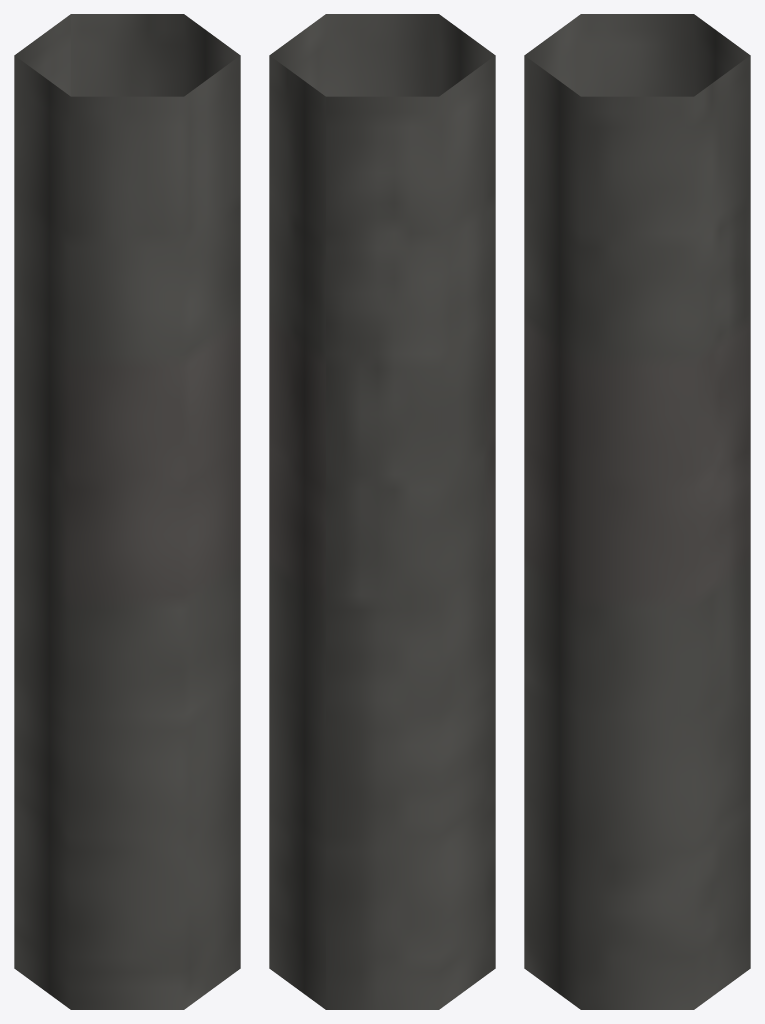
File: cable_5cm.gltf
3 renders of one model, left to right at view 1: azimuth 30°, elevation 25°; view 2: azimuth 150°, elevation 25°; view 3: azimuth 270°, elevation 25°, orthographic.
Visible parts, largest first — view 1: cable_5cm; view 2: cable_5cm; view 3: cable_5cm.
Boxes of the visible parts, x1=… form: cable_5cm: x1=14, y1=14, x2=240, y2=1009; cable_5cm: x1=269, y1=14, x2=495, y2=1009; cable_5cm: x1=524, y1=14, x2=750, y2=1009.
Bounding box in the file's own units: 0.00971 × 0.05 × 0.0112.
Materials: 1 (1 with a texture image).
